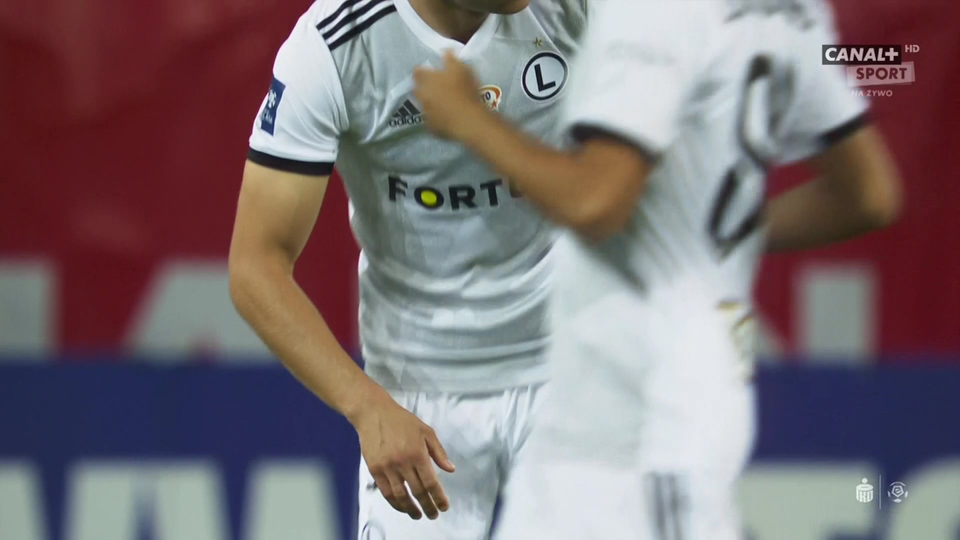Adidas: (387, 98, 427, 127)
